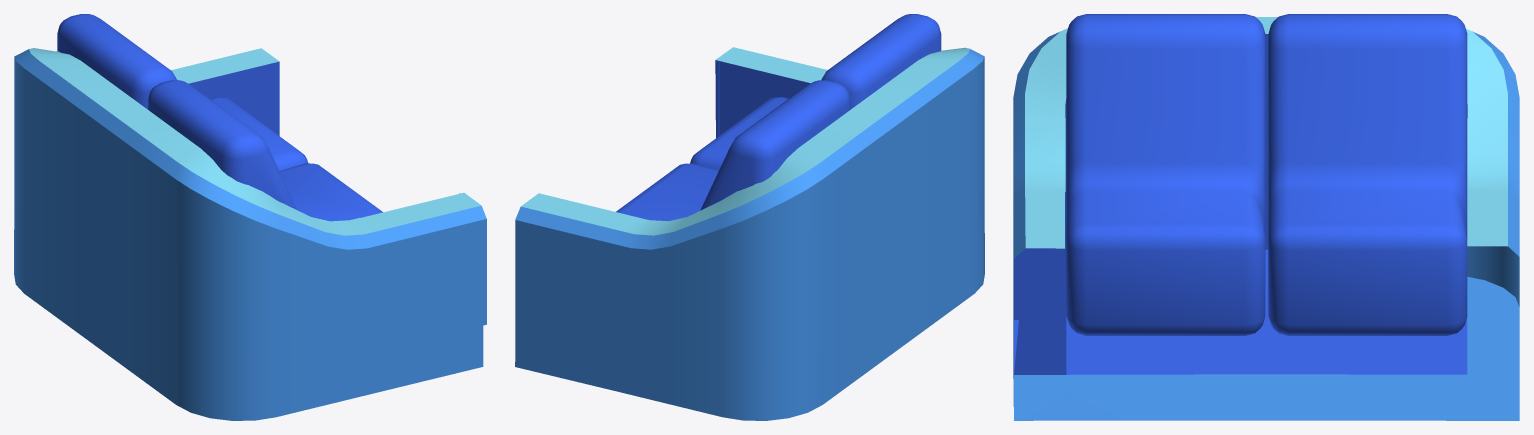
File: Cart_Expend_3.fbx
The picture shows the model from 3 angles, left to right: view 1: azimuth 30°, elevation 25°; view 2: azimuth 150°, elevation 25°; view 3: azimuth 270°, elevation 25°; orthographic projection. The views are drawn at different scales.
Parts seen in each view (by area): view 1: Cart_Expend_3; view 2: Cart_Expend_3; view 3: Cart_Expend_3.
Boxes of the visible parts, x1,y1,x2,y2 form: Cart_Expend_3: [14, 14, 486, 420]; Cart_Expend_3: [515, 14, 984, 420]; Cart_Expend_3: [1013, 14, 1519, 420].
Size of the model in its own units: 172 by 156 by 248.
